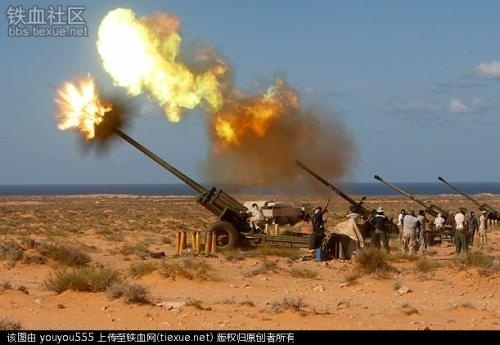fire: (95, 4, 293, 147), (53, 71, 114, 139)
